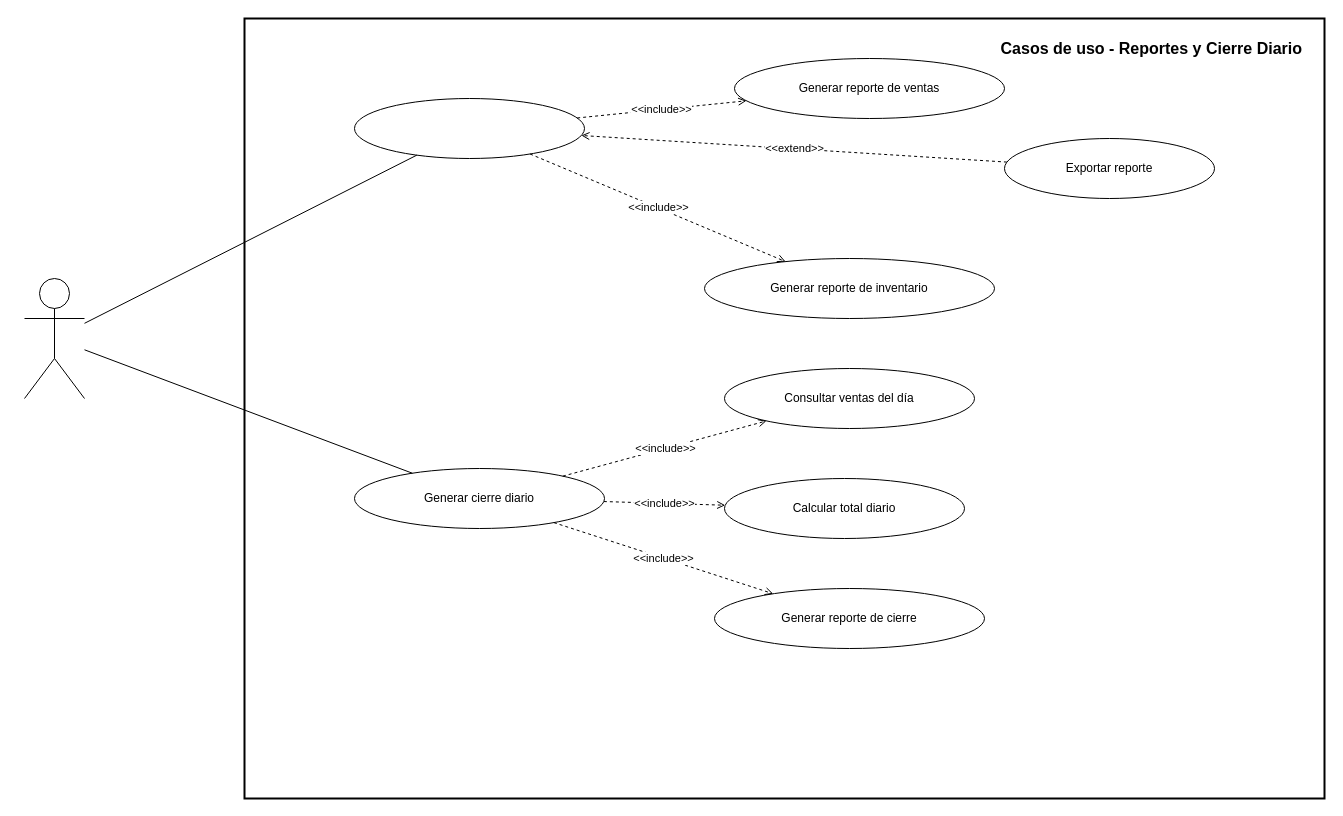
Image size: 1343x816. Some labels were removed from this diagram. Each missing label, with the centre of its shape:
Administrador: (x=54, y=338)
Consultar reportes: (x=469, y=128)
